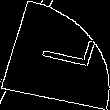L_W: (20, 34, 90, 76)
